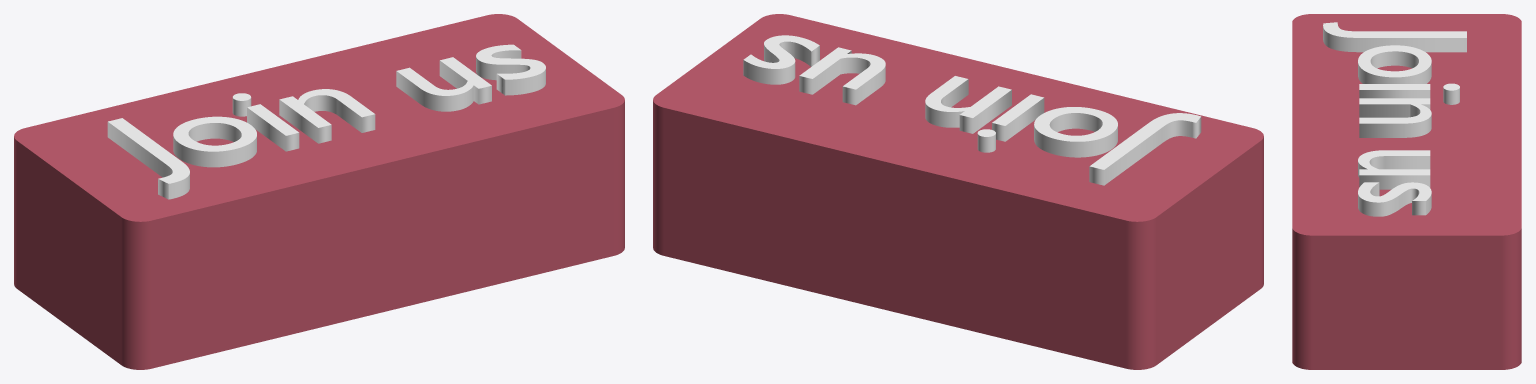
File: welcome_button.glb
3 views of the same model, side by side, from view 1: azimuth 30°, elevation 25°; view 2: azimuth 150°, elevation 25°; view 3: azimuth 270°, elevation 25° (orthographic). The views are drawn at different scales.
Visible parts, largest first — view 1: Cube, Text5; view 2: Cube, Text5; view 3: Cube, Text5.
Part boxes in pixels (x1,y1,x2,y2): Cube: (14,14,624,369); Text5: (107,44,545,199); Cube: (653,14,1263,369); Text5: (743,35,1201,185); Cube: (1292,14,1521,369); Text5: (1323,22,1466,216).
Size of the model in its own units: 0.5537 by 0.1733 by 0.2424.
